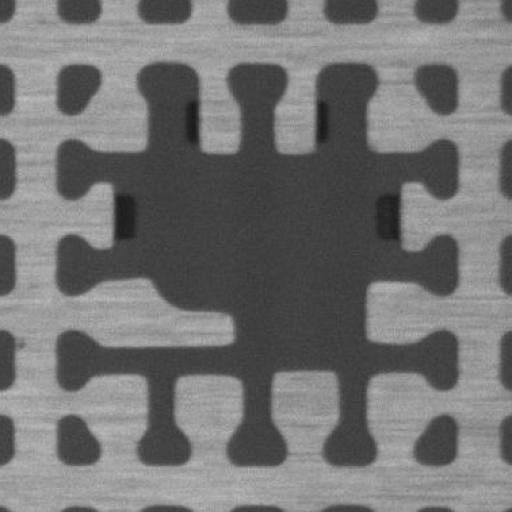NO_DIE: (50, 58, 462, 465)
